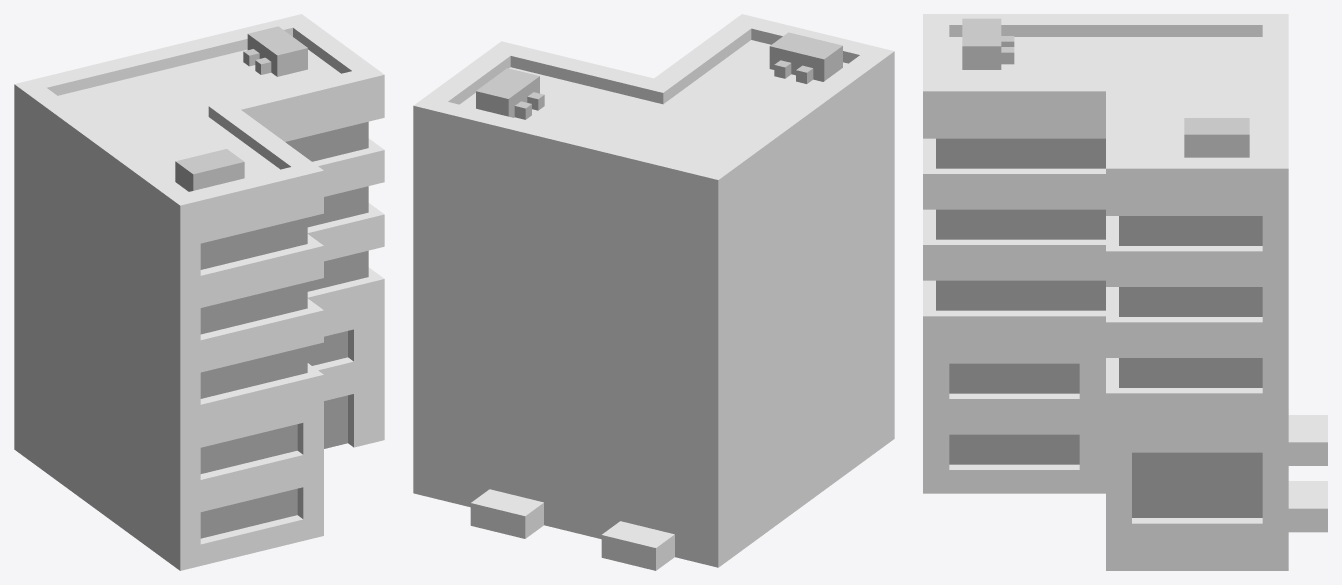
File: building_2.obj
3 views of the same model, side by side, from view 1: azimuth 30°, elevation 25°; view 2: azimuth 150°, elevation 25°; view 3: azimuth 270°, elevation 25° (orthographic). The views are drawn at different scales.
Size of the model in its own units: 2.8 by 3.5 by 3.1.
1 material, 1 textured.
